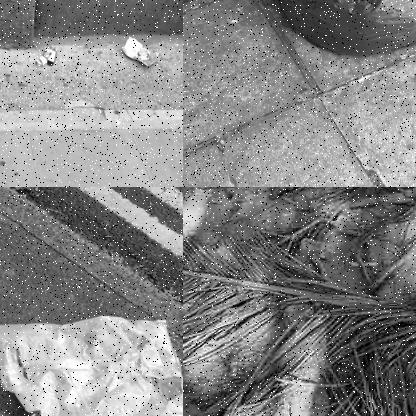plastic: (0, 320, 182, 415), (269, 0, 415, 54), (124, 35, 161, 74), (300, 234, 344, 263), (42, 45, 57, 71)
